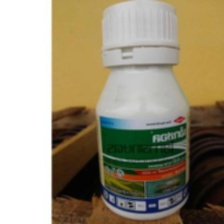insecticide: (92, 0, 195, 222)
